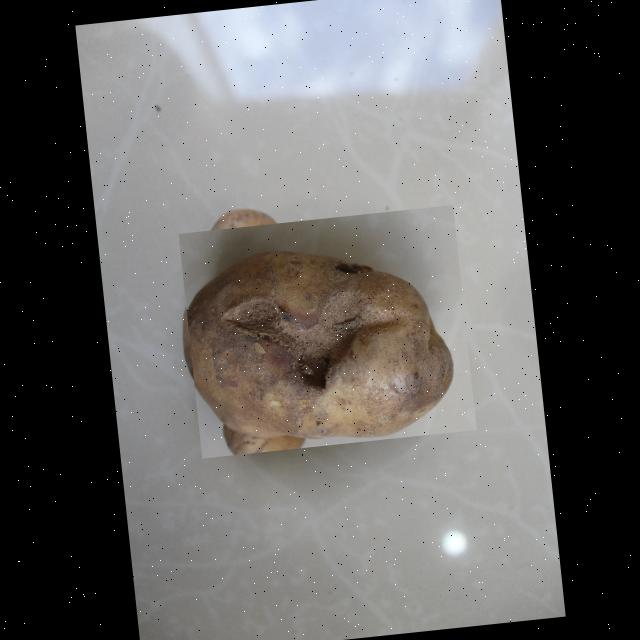Diseased-fungal potato: (178, 203, 476, 458)
